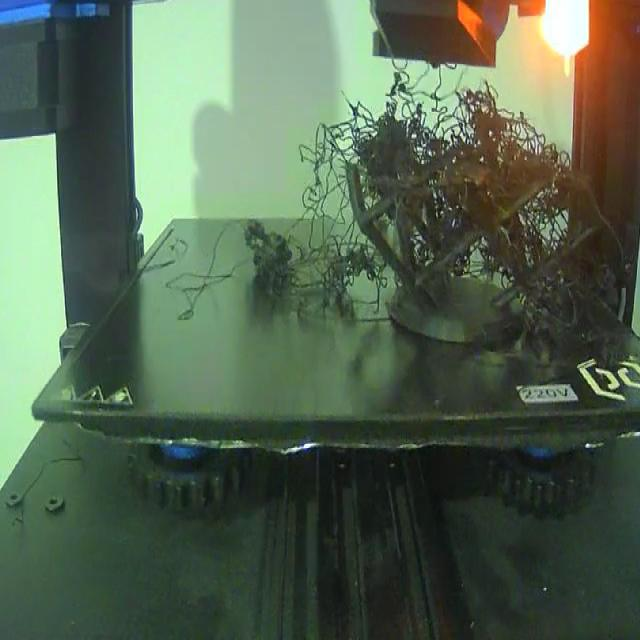spaghetti: (243, 60, 626, 378)
